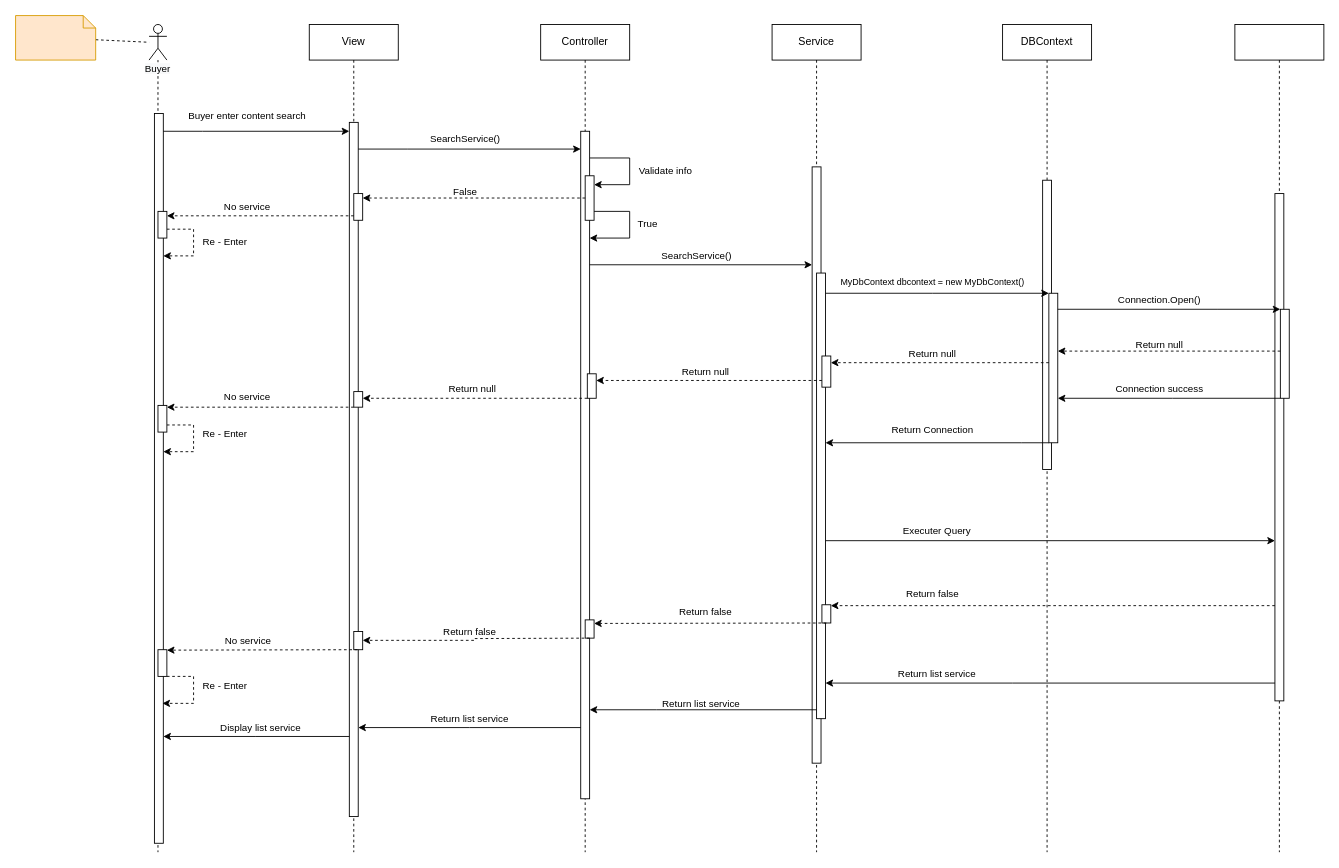
Some shapes in this 1339 by 868 pixel diagram are drawn without their labels. The shapes that lost their labels are listed below. From the top down, each one's box as (x1, y1, x2, y2) in pixels, then its label:
(15, 15, 96, 60): Buyer want search service
(1234, 24, 1324, 852): Database
